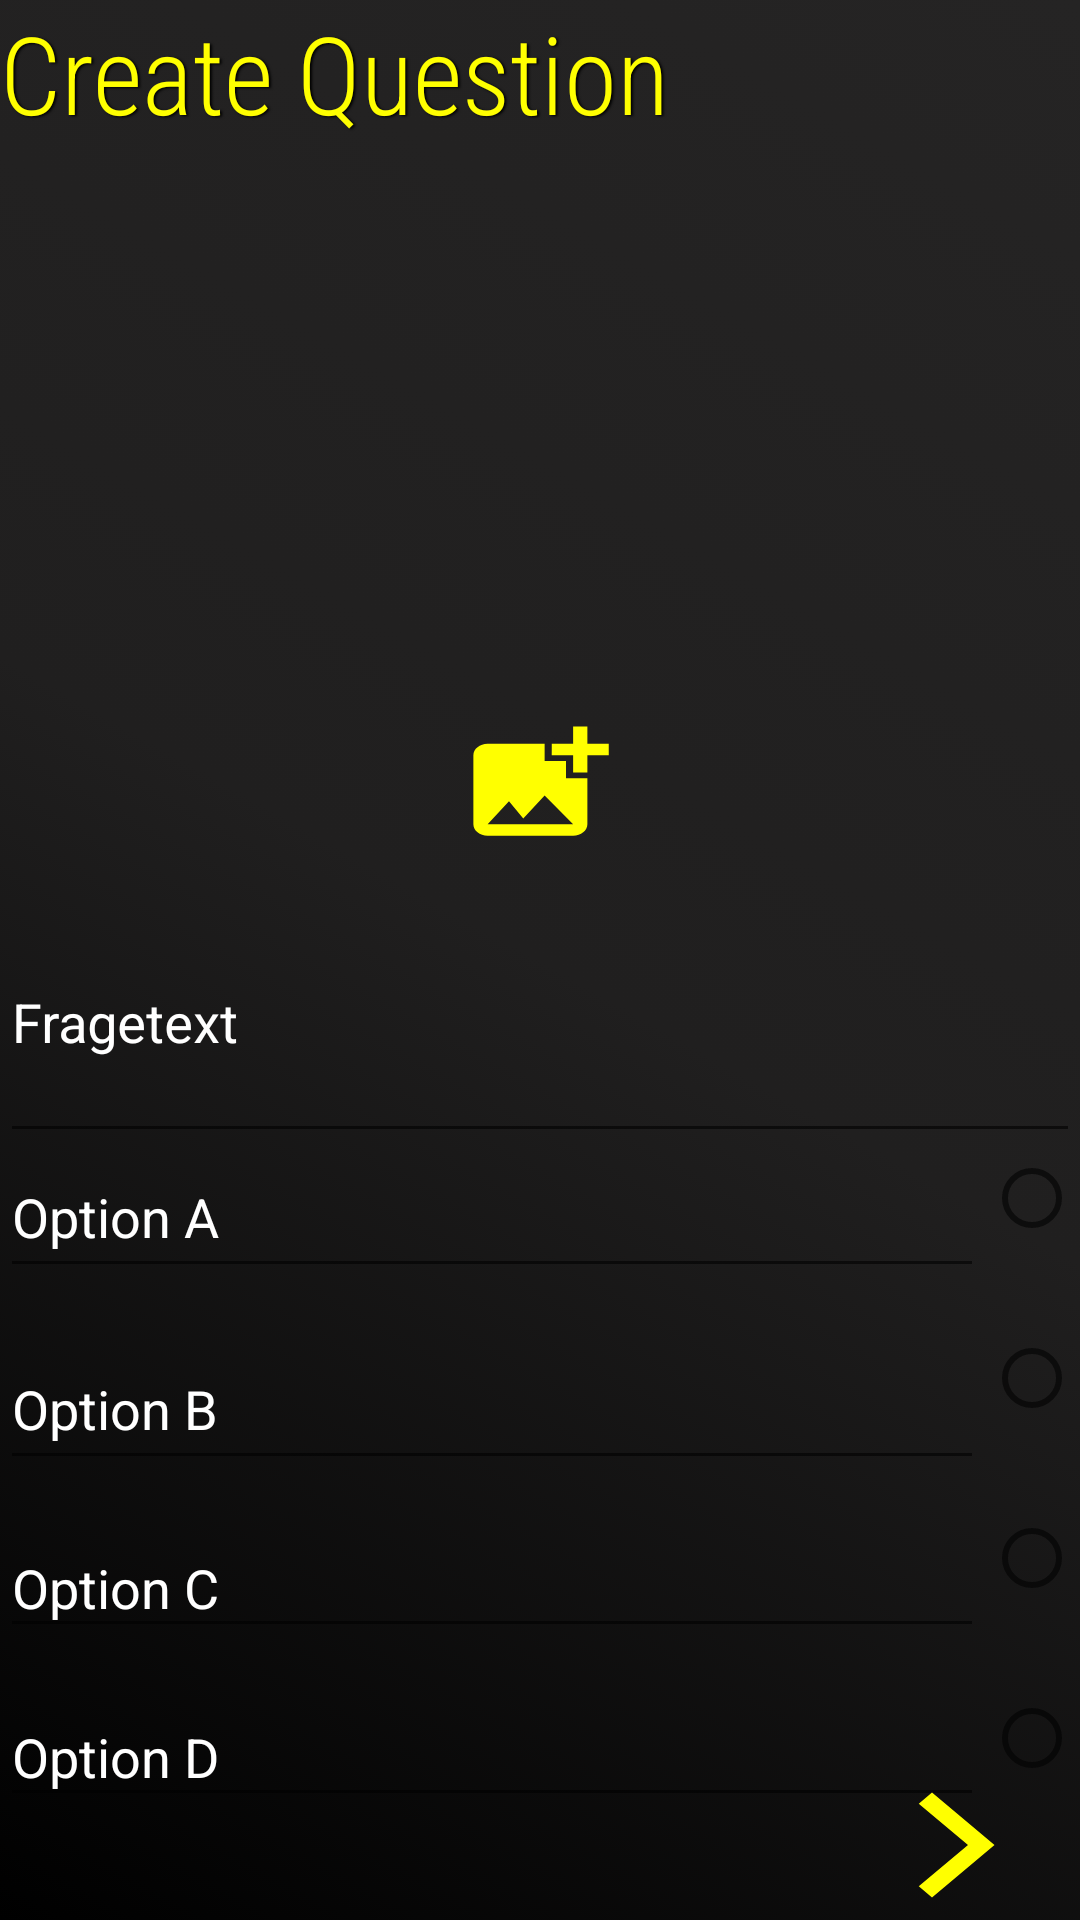

Locate icon controls on the screen. Image size 1080 x 1920, boxes as (x1, y1, x2, y2).
add photo alternate: (473, 726, 609, 836)
arrow forward: (919, 1792, 995, 1898)
